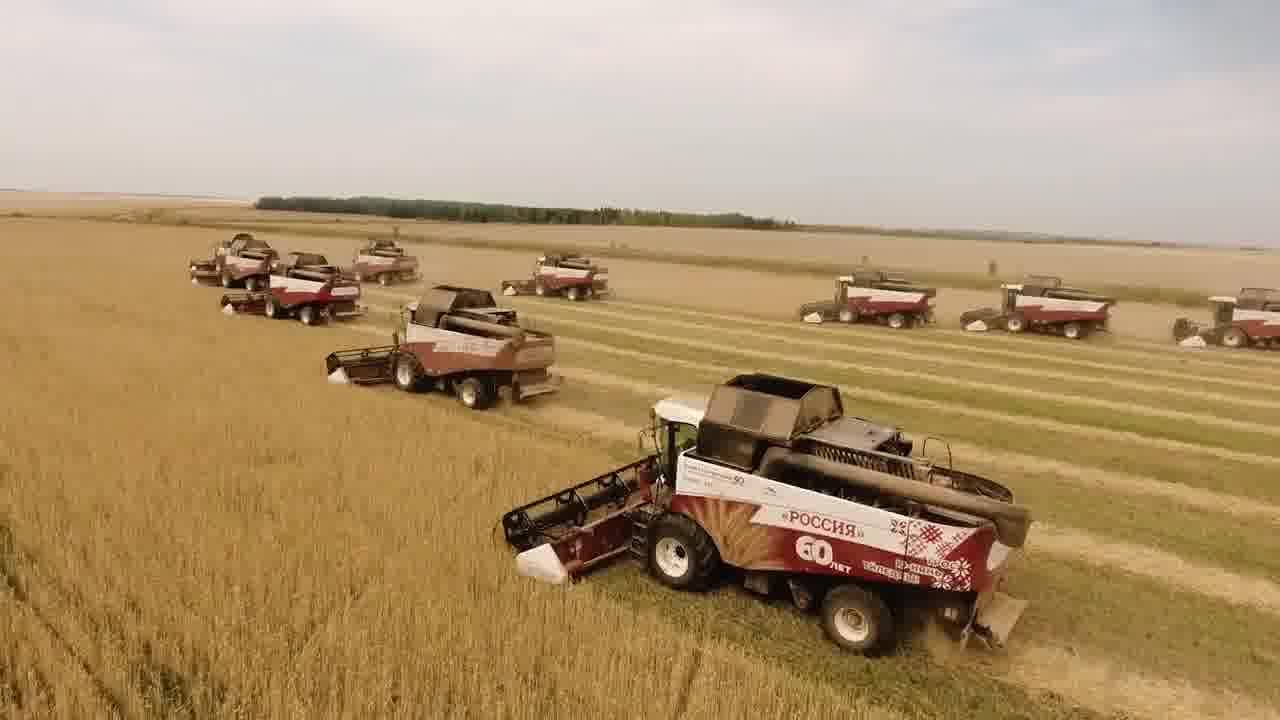combine harvester: (497, 360, 1038, 661), (324, 284, 562, 410), (221, 248, 366, 333), (957, 273, 1117, 343), (797, 268, 942, 329), (1170, 286, 1280, 350), (500, 247, 618, 303), (187, 230, 284, 291), (346, 235, 423, 280)
